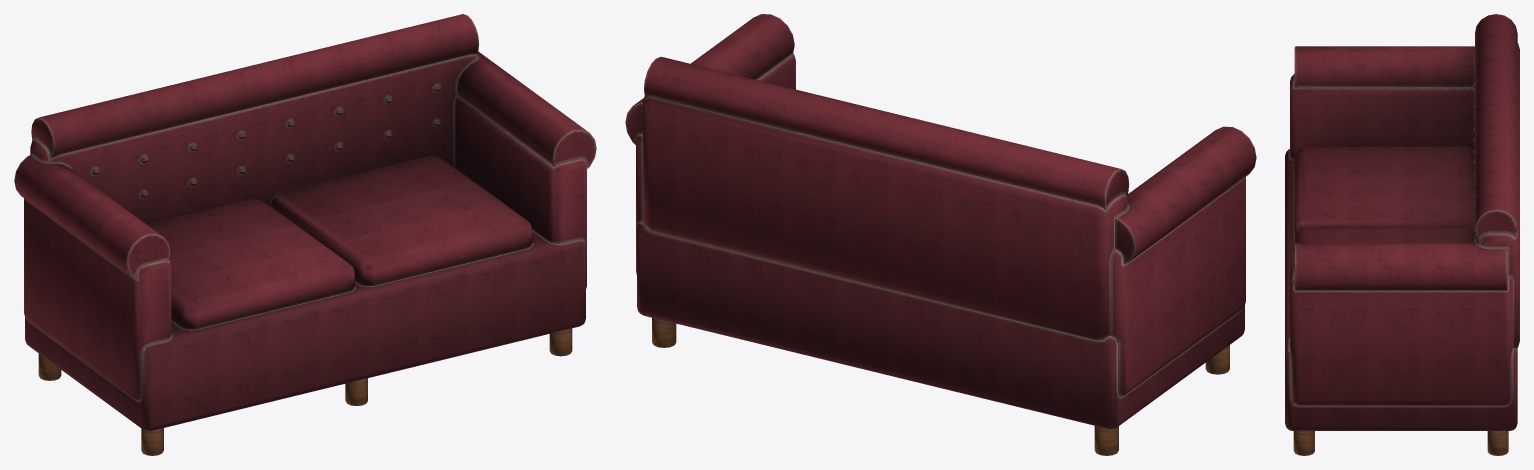
The model's file is Sofa.fbx.
3 views of the same model, side by side, from view 1: azimuth 30°, elevation 25°; view 2: azimuth 150°, elevation 25°; view 3: azimuth 270°, elevation 25° (orthographic). The views are drawn at different scales.
Visible parts, largest first — view 1: Sofa; view 2: Sofa; view 3: Sofa.
Part boxes in pixels (x1,y1,x2,y2): Sofa: (14,14,596,455); Sofa: (625,14,1256,455); Sofa: (1285,14,1519,455).
Bounding box in the file's own units: 530 × 280 × 243.
